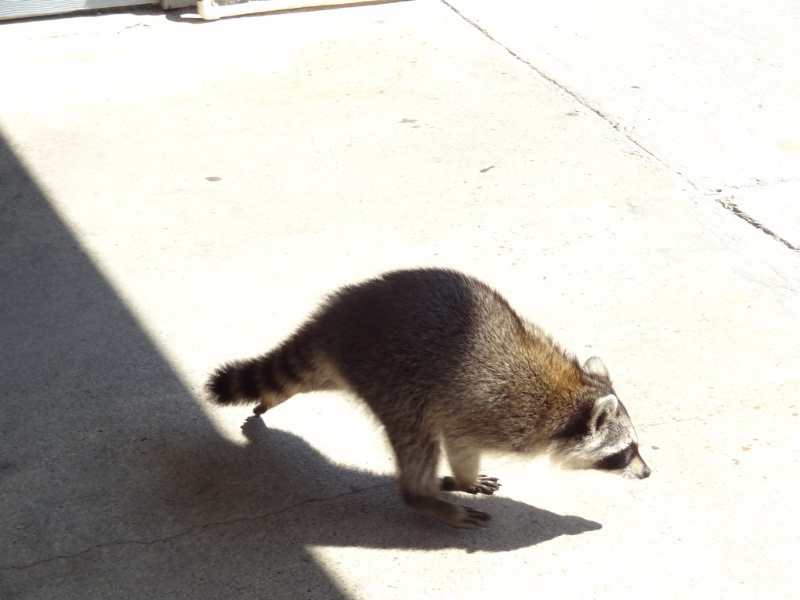raccoon: (198, 265, 653, 525)
